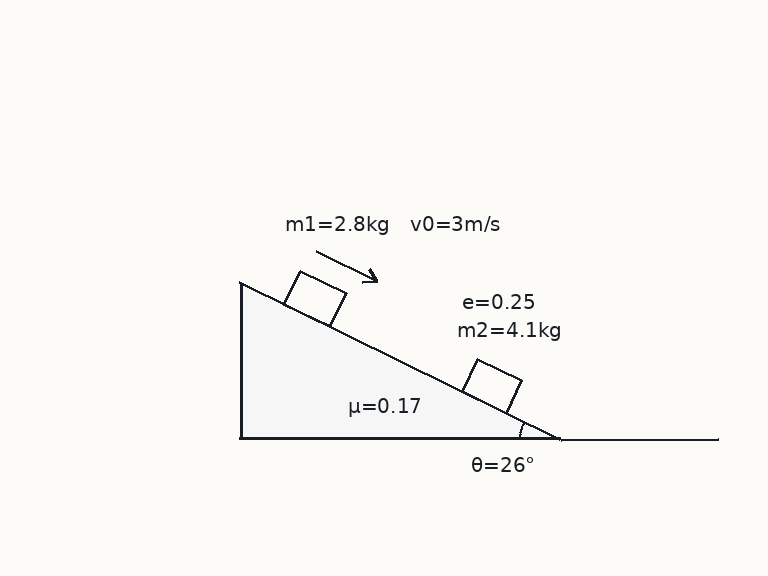block: (281, 268, 348, 328), (460, 357, 524, 415)
ramp: (238, 281, 562, 441)
